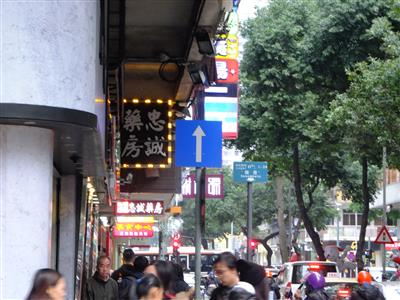oneway: (170, 113, 224, 176)
